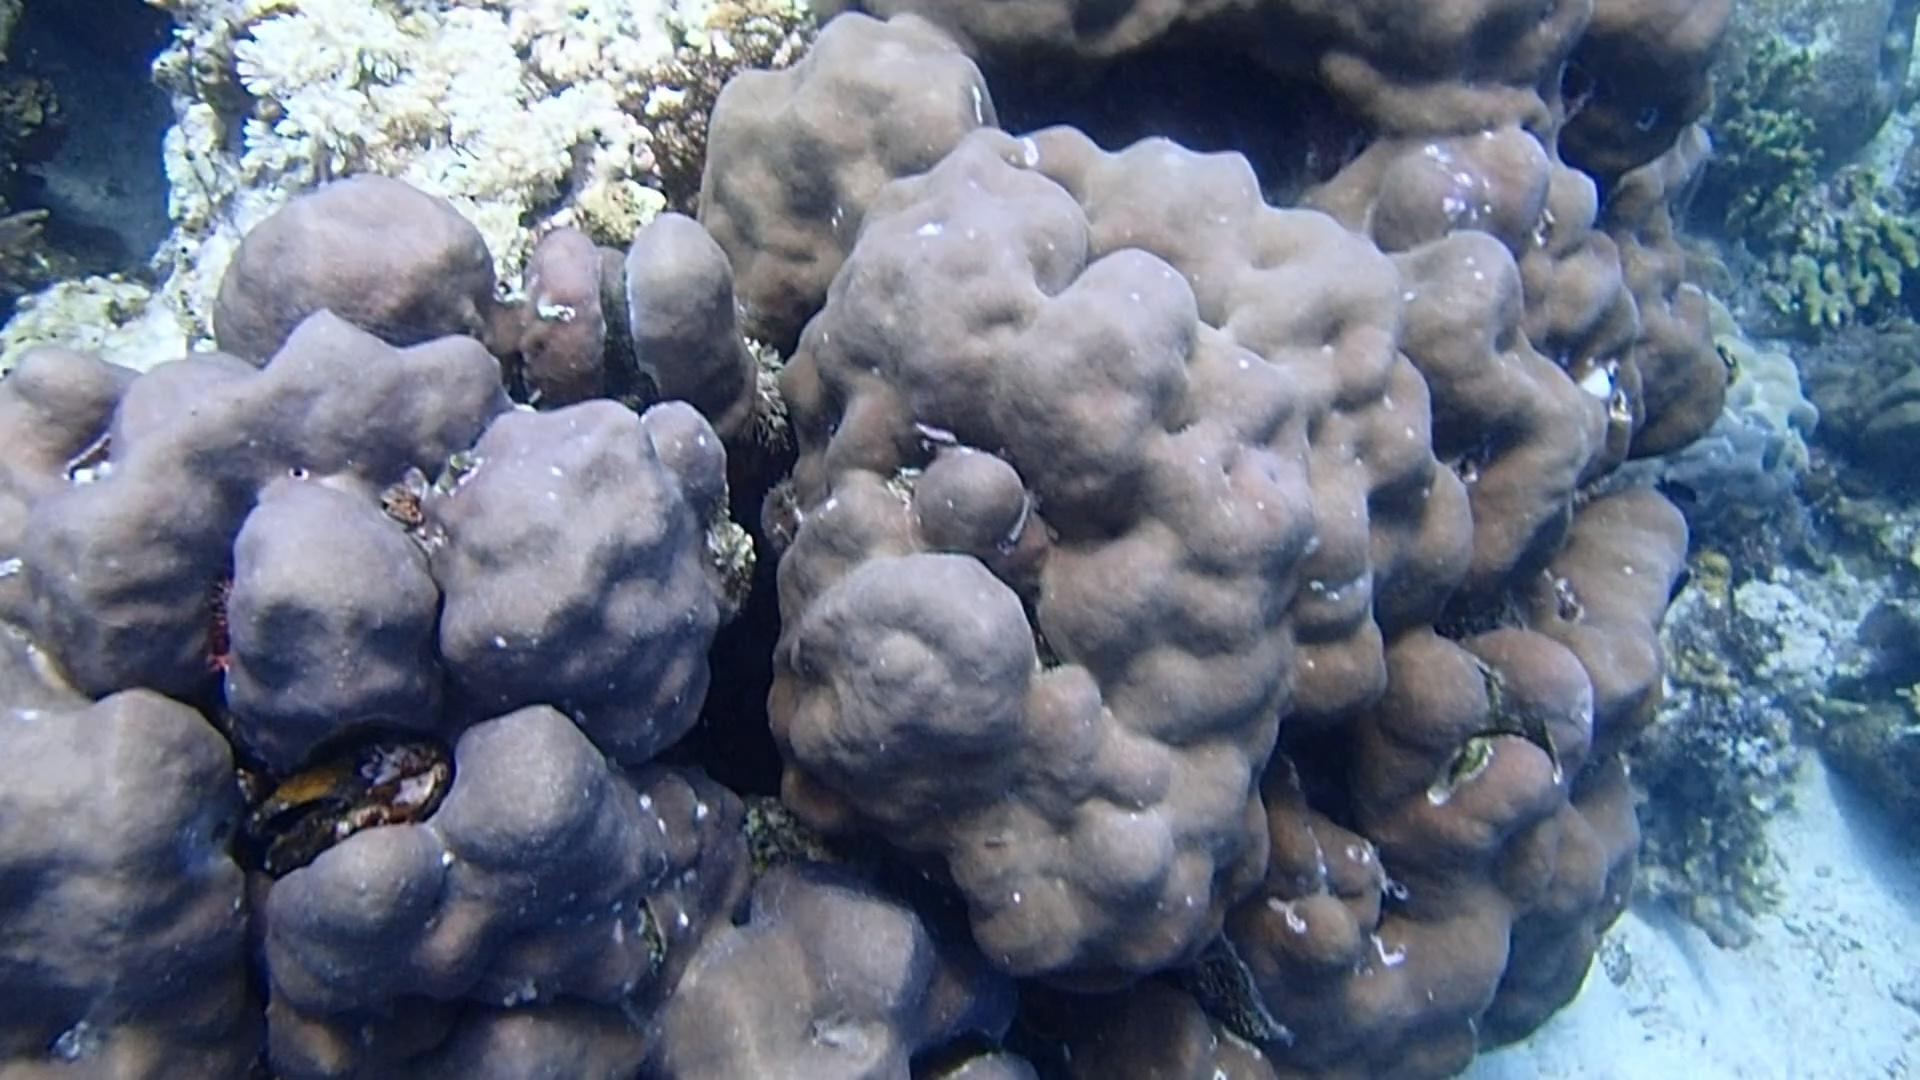Dark Fish: (1646, 463, 1713, 510)
